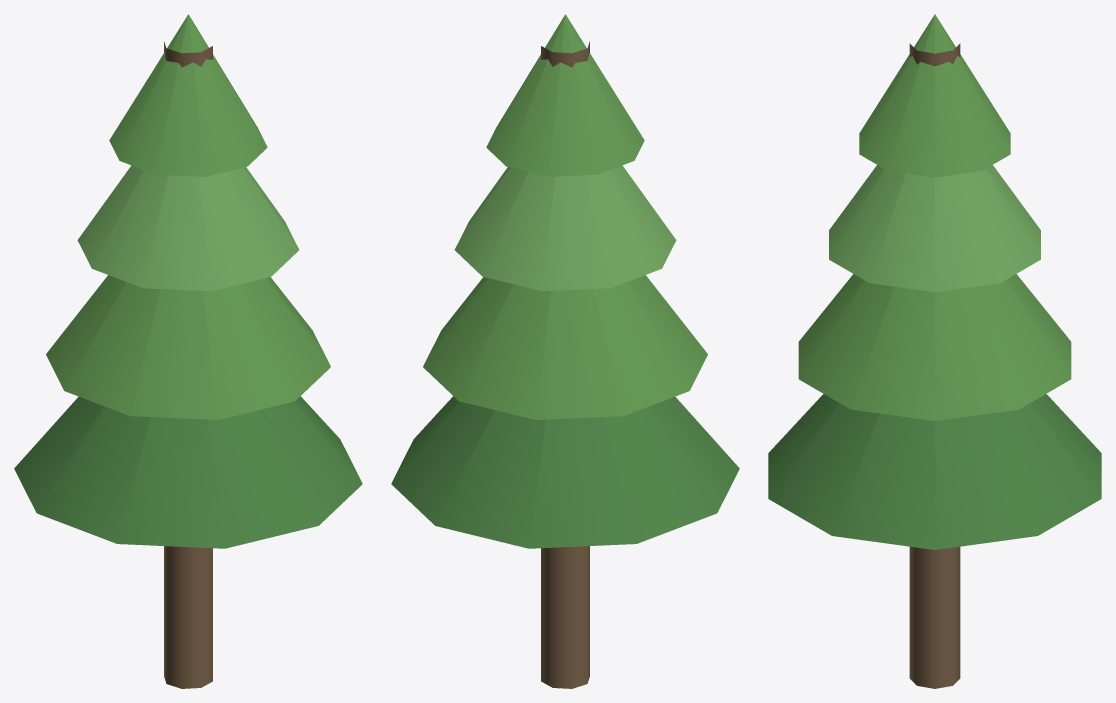
File: conifer_tree.glb
3 renders of one model, left to right at view 1: azimuth 30°, elevation 25°; view 2: azimuth 150°, elevation 25°; view 3: azimuth 270°, elevation 25°, orthographic.
Visible parts, largest first — view 1: ConiferTree; view 2: ConiferTree; view 3: ConiferTree.
Part boxes in pixels (bbox=[...]): ConiferTree: bbox=[14, 14, 362, 688]; ConiferTree: bbox=[391, 14, 739, 688]; ConiferTree: bbox=[768, 14, 1101, 688].
Bounding box in the file's own units: 1.1 × 2.3 × 1.05.
